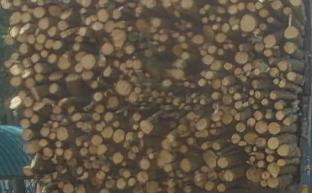medium: (111, 30, 125, 49), (23, 140, 41, 154), (158, 151, 173, 167), (242, 15, 255, 32), (247, 168, 261, 182), (117, 81, 132, 94), (204, 151, 216, 167), (83, 55, 95, 68), (244, 133, 257, 145), (58, 56, 70, 69), (285, 27, 298, 38), (10, 96, 21, 109), (141, 121, 152, 133), (236, 52, 247, 64), (256, 121, 267, 133), (268, 123, 280, 134), (268, 138, 279, 150), (268, 164, 279, 176), (114, 130, 124, 143), (192, 35, 204, 45), (265, 36, 275, 48), (10, 13, 20, 25), (49, 6, 61, 16), (60, 9, 72, 19), (147, 182, 159, 192), (58, 128, 68, 139), (39, 18, 49, 29), (34, 7, 44, 18), (278, 145, 288, 156), (113, 153, 123, 164), (22, 130, 33, 140), (108, 97, 118, 108), (285, 42, 295, 53), (173, 70, 184, 80), (137, 172, 148, 182), (212, 112, 222, 123), (50, 72, 62, 81), (105, 21, 114, 33), (96, 172, 105, 184), (103, 44, 113, 54), (92, 135, 103, 144), (268, 178, 279, 187), (99, 10, 108, 21), (19, 43, 28, 54), (197, 119, 206, 130), (10, 26, 19, 37), (272, 0, 283, 9), (181, 159, 189, 171), (103, 128, 112, 138), (11, 66, 21, 75), (66, 75, 81, 81), (231, 134, 240, 144), (223, 95, 232, 105), (82, 123, 92, 132), (228, 4, 237, 14), (162, 140, 171, 150), (50, 83, 58, 94), (10, 78, 21, 86), (118, 179, 126, 190), (20, 120, 31, 128), (181, 0, 192, 8), (82, 72, 93, 80), (218, 158, 227, 167), (41, 127, 50, 136), (141, 160, 150, 169), (278, 62, 287, 71), (216, 34, 225, 43), (223, 115, 232, 124), (236, 124, 245, 133), (23, 167, 32, 176), (95, 104, 104, 113), (24, 109, 33, 118), (64, 184, 74, 192), (276, 111, 284, 121), (64, 150, 72, 160), (229, 18, 239, 26), (203, 56, 212, 64), (98, 145, 106, 154), (129, 93, 137, 102), (59, 22, 68, 30), (21, 14, 30, 22), (257, 138, 266, 146), (24, 98, 32, 107), (53, 106, 61, 115), (113, 21, 125, 27), (113, 10, 121, 19), (147, 0, 156, 8), (200, 130, 208, 139), (67, 158, 76, 166), (106, 180, 115, 188), (234, 68, 242, 77), (270, 68, 278, 77), (76, 63, 83, 73), (225, 171, 232, 181), (75, 185, 85, 192), (48, 55, 56, 63), (133, 61, 141, 69), (37, 35, 45, 43), (269, 92, 277, 100), (44, 148, 52, 156), (221, 24, 229, 32), (126, 46, 134, 54), (287, 73, 295, 81), (95, 124, 103, 132), (180, 145, 188, 153), (164, 164, 172, 172), (168, 179, 176, 187), (283, 118, 291, 126), (95, 92, 102, 101), (212, 61, 219, 70), (48, 27, 55, 36), (213, 80, 220, 89), (35, 64, 42, 73), (55, 149, 64, 156), (83, 0, 92, 7), (248, 3, 255, 12), (254, 111, 261, 120), (205, 71, 212, 80), (254, 44, 263, 51), (206, 182, 213, 190), (40, 139, 47, 147), (105, 113, 112, 121), (54, 41, 61, 49), (46, 40, 53, 48), (31, 55, 38, 63), (152, 19, 160, 26), (73, 114, 81, 121), (73, 43, 80, 51), (124, 171, 131, 179), (260, 10, 268, 17), (248, 119, 256, 126), (187, 113, 195, 120), (179, 125, 186, 133), (244, 64, 251, 72), (93, 24, 102, 30), (162, 80, 171, 86), (218, 184, 225, 191), (93, 113, 100, 120), (182, 52, 189, 59), (209, 14, 216, 21), (284, 8, 291, 15), (167, 135, 174, 142), (93, 162, 100, 169), (160, 35, 167, 42), (164, 1, 171, 8), (80, 28, 86, 36), (80, 148, 86, 156), (129, 178, 135, 186), (266, 148, 274, 154), (252, 81, 258, 88), (275, 103, 282, 109), (223, 78, 229, 85), (212, 92, 218, 99), (213, 144, 220, 150), (225, 63, 231, 70), (209, 47, 216, 53), (245, 146, 251, 153), (134, 114, 140, 121), (90, 146, 96, 153), (239, 141, 247, 146), (76, 138, 81, 146), (198, 80, 204, 86), (256, 3, 262, 9), (260, 24, 266, 30), (185, 186, 191, 192), (29, 36, 34, 43), (77, 167, 82, 174), (127, 133, 132, 140), (102, 166, 109, 171), (179, 37, 185, 42), (232, 25, 238, 30), (234, 94, 239, 100), (188, 138, 193, 144), (133, 146, 138, 152), (181, 44, 188, 48), (203, 18, 208, 23), (218, 50, 223, 55), (86, 19, 90, 25), (168, 188, 174, 192), (52, 159, 57, 163), (53, 172, 56, 178), (82, 9, 86, 13)
small: (278, 159, 286, 167), (263, 172, 270, 179), (267, 155, 274, 162), (11, 54, 19, 60), (258, 161, 264, 168), (236, 102, 242, 109), (265, 50, 271, 57), (68, 107, 75, 113), (41, 51, 47, 57), (202, 144, 208, 150), (202, 166, 208, 172), (91, 82, 97, 88), (248, 98, 254, 104), (150, 28, 157, 33), (261, 181, 267, 186), (243, 102, 249, 107), (262, 100, 268, 105), (255, 69, 260, 75), (77, 122, 82, 128), (127, 61, 132, 67), (183, 82, 189, 87), (153, 91, 158, 97), (280, 82, 285, 88), (53, 123, 58, 128), (114, 122, 119, 127), (256, 92, 260, 98), (236, 114, 240, 120), (115, 60, 118, 67), (251, 157, 255, 162), (274, 79, 278, 84), (213, 25, 217, 30), (268, 18, 273, 22), (50, 134, 55, 138), (267, 114, 271, 119), (230, 88, 234, 93), (174, 99, 178, 104), (84, 143, 88, 147), (134, 125, 138, 129), (193, 99, 197, 103), (192, 94, 196, 98), (64, 53, 68, 57), (136, 88, 140, 92), (216, 18, 220, 22), (128, 27, 132, 31), (173, 142, 177, 146), (217, 122, 221, 126), (211, 123, 215, 127), (130, 70, 134, 74), (124, 70, 128, 74), (242, 77, 246, 81), (228, 44, 232, 48), (224, 45, 228, 49), (254, 147, 257, 152), (197, 175, 200, 180), (48, 121, 52, 124), (250, 91, 253, 95), (149, 98, 152, 102), (168, 93, 172, 96), (196, 132, 199, 136), (191, 84, 194, 88), (128, 73, 131, 77), (158, 99, 162, 102), (254, 105, 257, 109), (150, 155, 153, 158), (167, 99, 170, 102), (160, 30, 163, 33), (201, 100, 204, 103), (162, 91, 165, 94), (160, 94, 163, 97)
